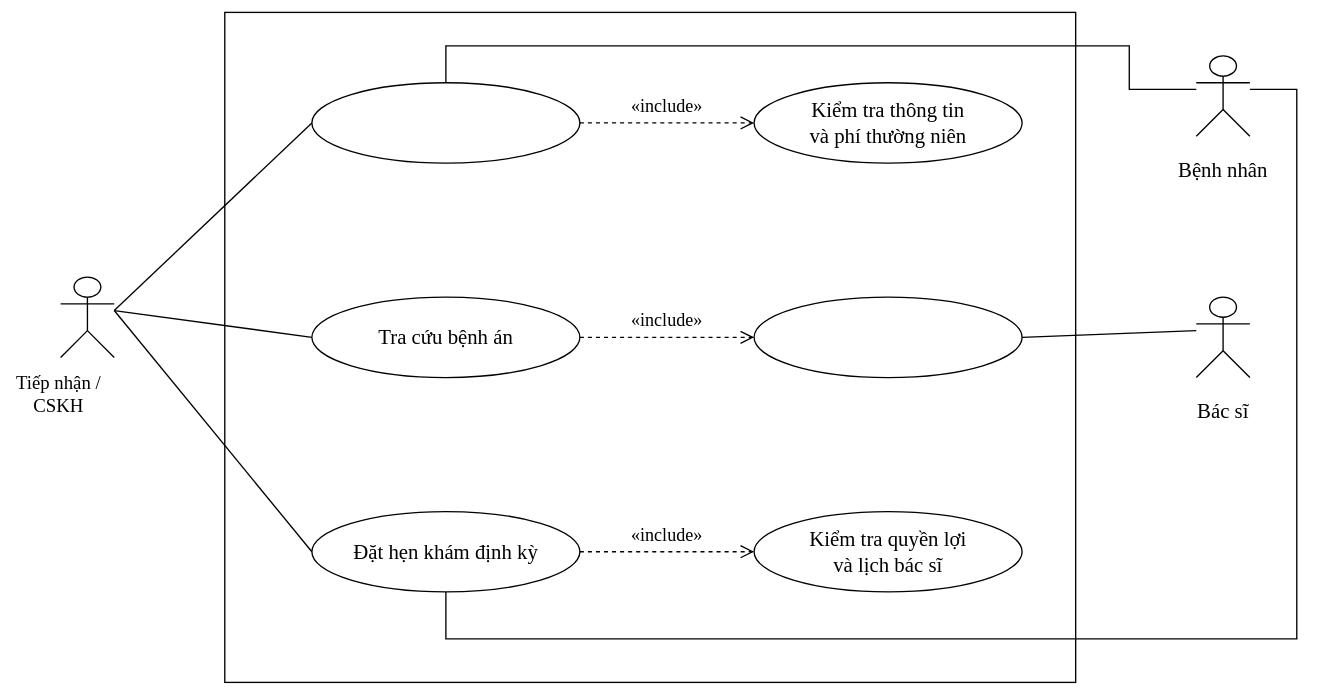
This 1328x694 diagram has some shape labels left out. The shapes that lost their labels are listed below. From the top down, each one's box as (x1, y1, x2, y2) in pixels, then its label:
(311, 82, 580, 163): Đăng ký và gia hạn hồ sơ
(753, 296, 1022, 378): Xem lịch sử khám
